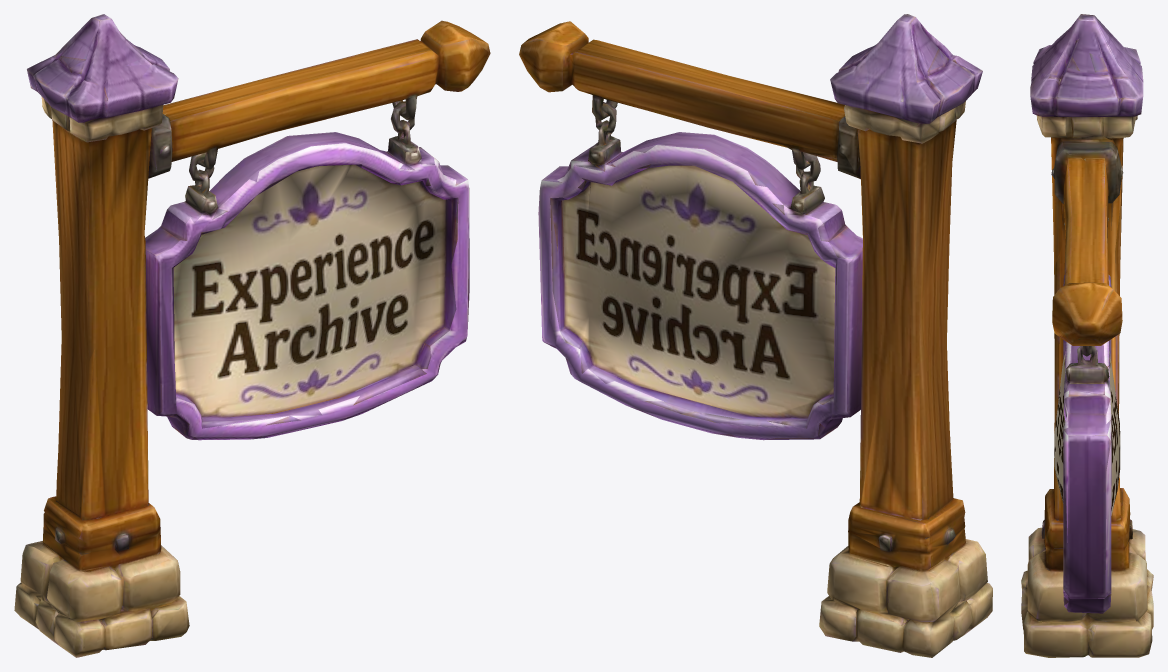
Rendered from sign-experience.glb.
3 renders of one model, left to right at view 1: azimuth 30°, elevation 25°; view 2: azimuth 150°, elevation 25°; view 3: azimuth 270°, elevation 25°, orthographic.
Parts seen in each view (by area): view 1: Mesh1.0; view 2: Mesh1.0; view 3: Mesh1.0.
Part boxes in pixels (x1,y1,x2,y2): Mesh1.0: (14, 14, 490, 657); Mesh1.0: (519, 14, 992, 657); Mesh1.0: (1021, 14, 1153, 657).
Bounding box in the file's own units: 1.44 × 1.9 × 0.3716.
1 material, 1 textured.
